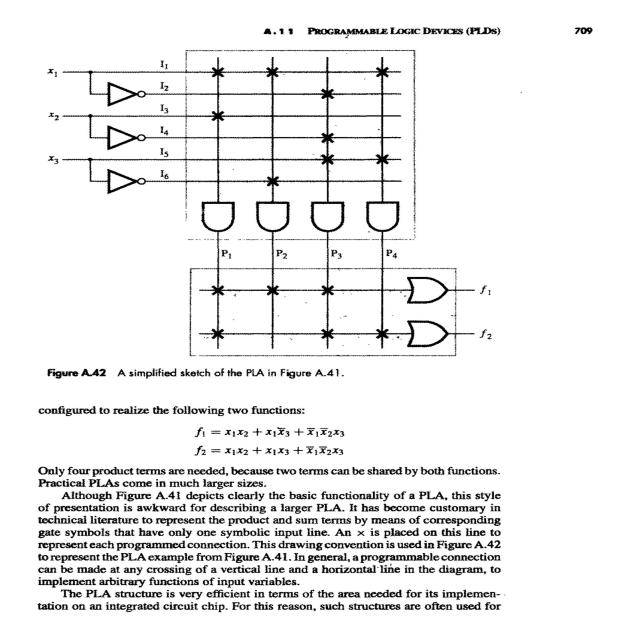diagram: (12, 34, 608, 388)
